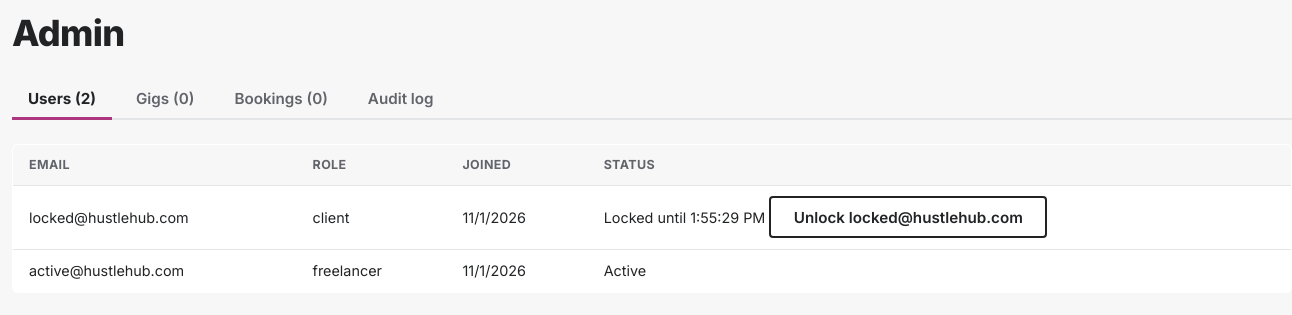
Test: AdminPage › unlocks an account when the admin clicks Unlock
Step 1. Click the button "Unlock locked@hustlehub.com" → click(908, 217), box x1=769 y1=196 x2=1047 y2=238
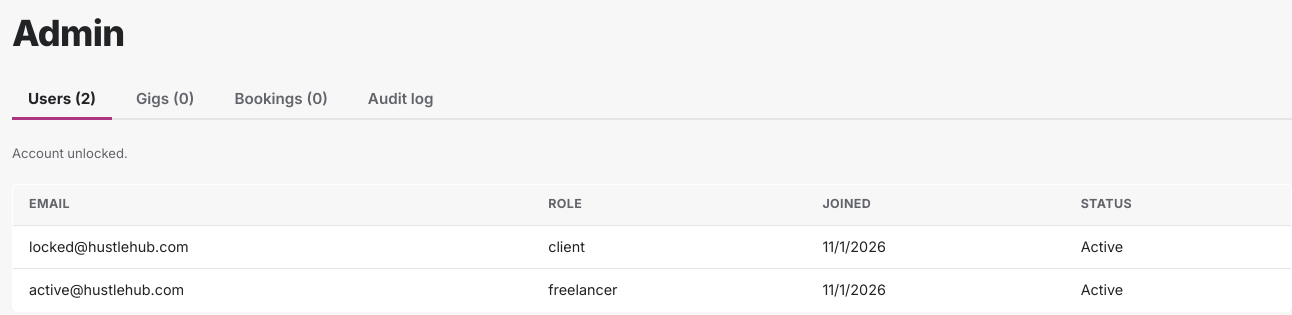
Check: the text "Account unlocked." is shown, box x1=12 y1=145 x2=128 y2=161
Check: the text "Locked until" is gone
